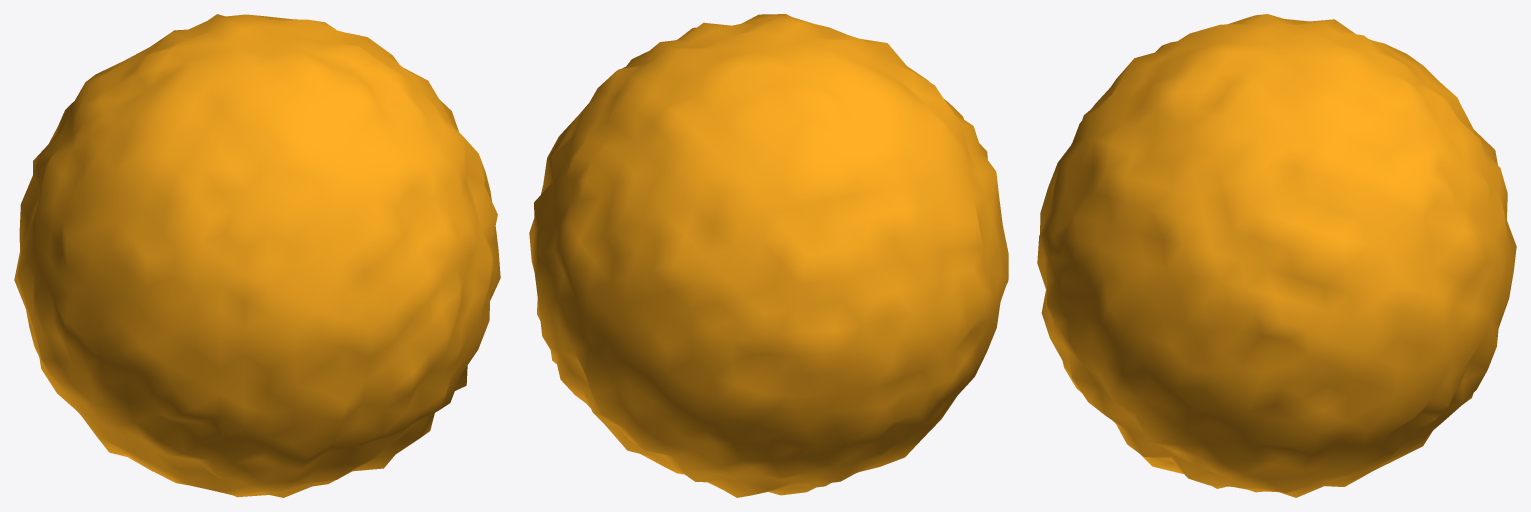
File: mars-moon-2-01.fbx
The picture shows the model from 3 angles, left to right: view 1: azimuth 30°, elevation 25°; view 2: azimuth 150°, elevation 25°; view 3: azimuth 270°, elevation 25°; orthographic projection.
Visible parts, largest first — view 1: mars_moon_2; view 2: mars_moon_2; view 3: mars_moon_2.
Boxes of the visible parts, <box> form: mars_moon_2: <box>14,14,500,497</box>; mars_moon_2: <box>529,14,1008,497</box>; mars_moon_2: <box>1037,14,1516,497</box>.
Bounding box in the file's own units: 203 × 201 × 203.
